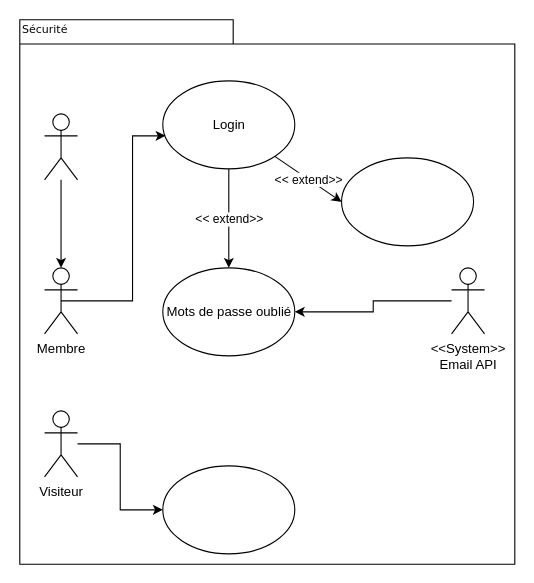
Some shapes in this 534 by 583 pixel diagram are drawn without their labels. The centre of each missing label's shape, as x and y in pixels:
Admin: point (60, 146)
Créer un compte: point (228, 509)
Logout: point (407, 201)
